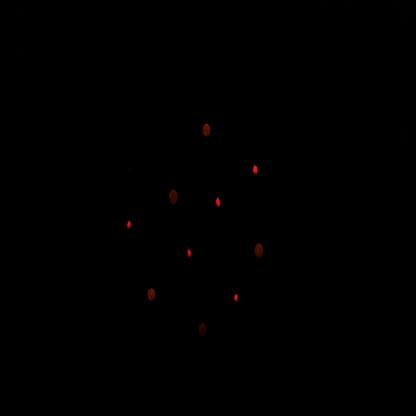PET: (247, 154, 266, 191), (119, 212, 141, 242), (182, 240, 200, 271), (229, 283, 247, 313), (213, 190, 225, 220)
PS: (249, 233, 271, 272), (142, 278, 163, 317), (165, 180, 184, 215), (195, 314, 213, 348), (199, 117, 216, 146)
